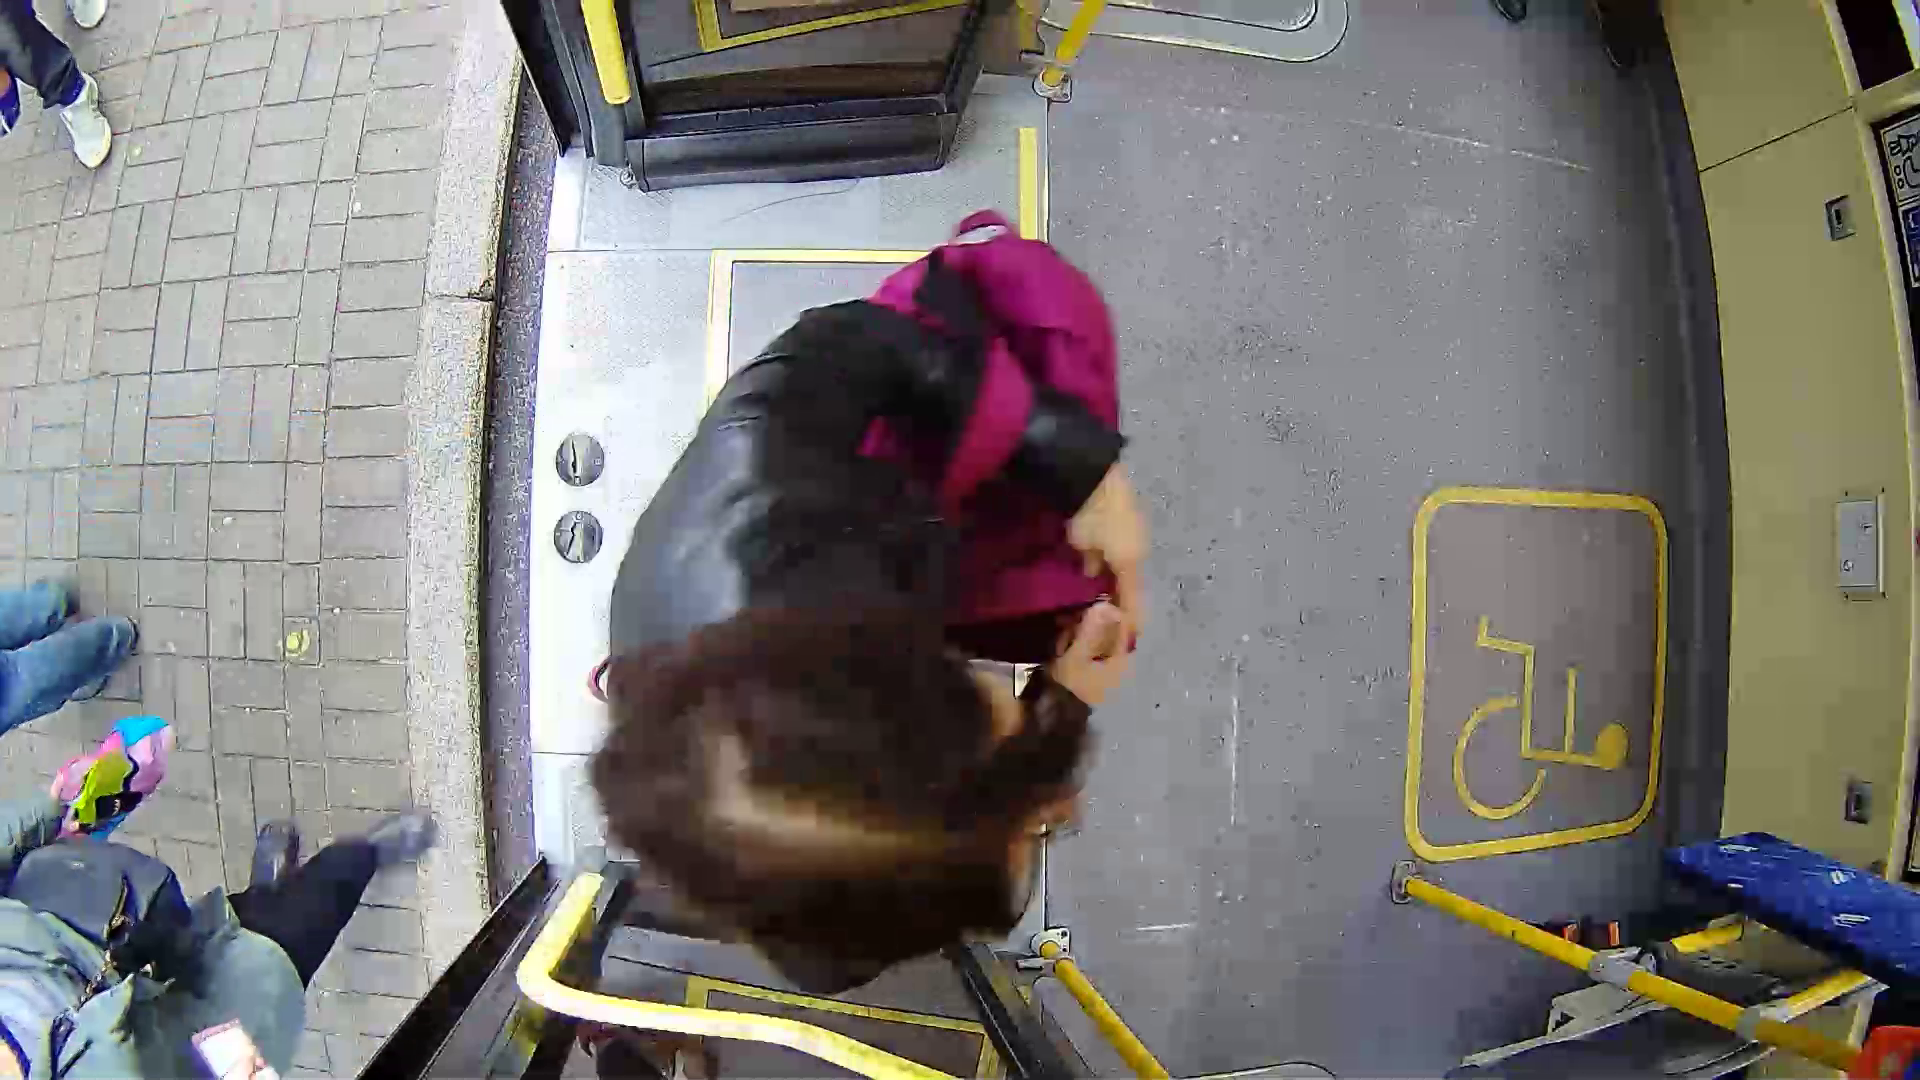person: (537, 245, 1210, 938)
